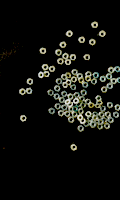nut: (56, 49, 63, 57), (27, 78, 34, 86), (78, 125, 85, 133), (92, 22, 99, 29), (100, 31, 107, 38), (67, 31, 74, 38), (60, 42, 67, 49), (40, 48, 47, 55), (70, 54, 77, 61), (84, 54, 91, 61), (65, 59, 72, 66), (58, 58, 65, 65), (49, 66, 56, 73), (42, 64, 49, 71), (44, 71, 51, 78), (38, 72, 45, 79), (26, 88, 33, 95), (100, 76, 107, 83), (93, 72, 100, 79), (111, 78, 118, 85), (91, 78, 98, 85), (85, 75, 92, 82), (72, 69, 79, 76), (78, 77, 85, 84), (82, 82, 89, 89), (71, 76, 78, 83), (61, 74, 68, 81), (56, 78, 63, 85), (66, 79, 73, 86), (70, 84, 77, 91), (48, 90, 55, 97), (81, 90, 88, 97), (74, 92, 81, 99), (59, 97, 66, 104), (107, 102, 114, 109), (65, 99, 72, 106), (49, 108, 56, 115), (58, 110, 65, 117), (77, 115, 84, 122), (80, 118, 87, 125), (86, 111, 93, 118), (108, 117, 115, 124), (98, 119, 105, 126), (104, 123, 111, 130), (71, 144, 78, 151), (54, 86, 62, 92), (96, 100, 104, 106), (100, 106, 108, 112), (90, 39, 96, 46), (79, 37, 86, 43), (63, 53, 69, 60), (20, 89, 26, 96), (20, 116, 27, 122), (109, 67, 115, 74), (106, 74, 113, 80), (86, 71, 93, 77), (108, 83, 114, 90), (102, 87, 109, 93), (77, 73, 84, 79), (66, 72, 72, 79), (63, 82, 69, 89), (68, 94, 74, 101), (62, 91, 68, 98), (54, 94, 61, 100), (80, 96, 86, 103), (89, 102, 95, 109), (73, 99, 80, 105), (80, 103, 87, 109), (55, 104, 62, 110), (73, 106, 79, 113), (69, 106, 75, 113), (65, 111, 71, 118), (78, 109, 85, 115), (69, 117, 75, 124), (99, 112, 106, 118), (105, 112, 112, 118), (114, 112, 120, 119), (93, 115, 100, 121), (84, 121, 90, 128), (91, 122, 98, 128), (86, 99, 92, 105), (68, 102, 74, 108), (76, 102, 82, 108), (62, 105, 68, 111), (72, 112, 78, 118), (93, 112, 99, 118), (88, 116, 94, 122), (95, 118, 101, 124), (102, 118, 108, 124), (98, 124, 104, 130), (115, 66, 120, 73), (96, 96, 103, 101), (95, 104, 102, 109), (115, 105, 120, 112), (117, 77, 120, 84)
